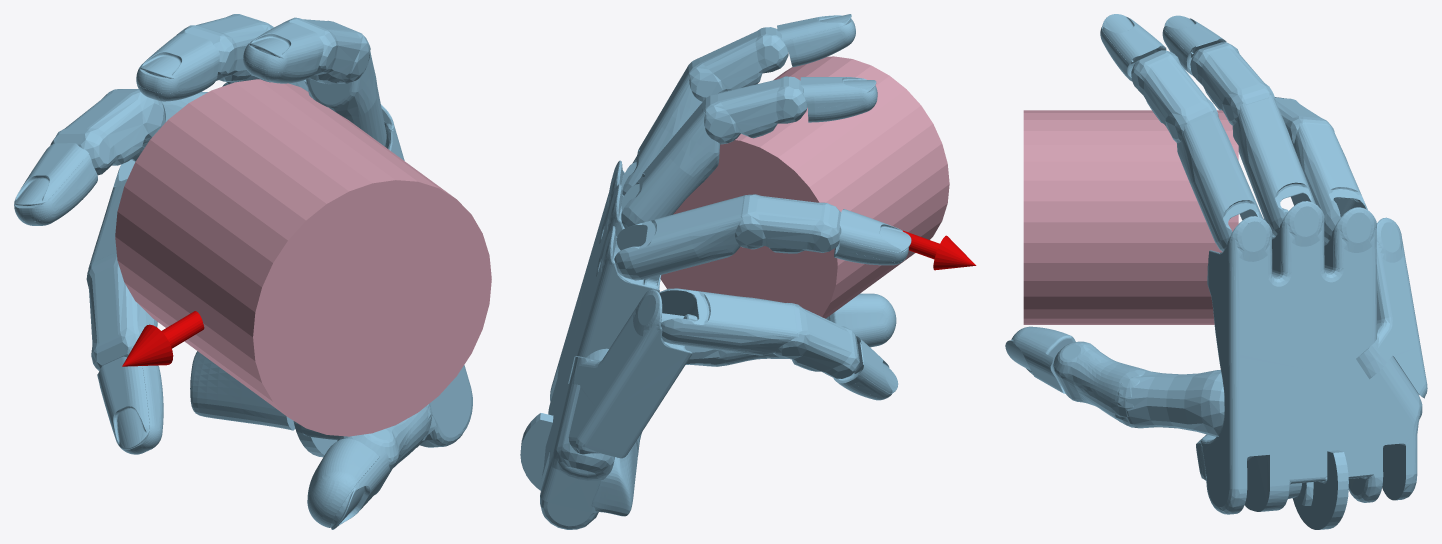
3 renders of one model, left to right at view 1: azimuth 30°, elevation 25°; view 2: azimuth 150°, elevation 25°; view 3: azimuth 270°, elevation 25°, orthographic. The views are drawn at different scales.
Parts seen in each view (by area): view 1: cylinder_medium.stl, world; view 2: world, cylinder_medium.stl; view 3: world, cylinder_medium.stl.
Boxes of the visible parts, x1,y1,x2,y2 form: cylinder_medium.stl: (115,79,491,436); world: (14,14,472,529); world: (520,14,976,529); cylinder_medium.stl: (660,56,949,318); world: (1005,14,1427,529); cylinder_medium.stl: (1023,110,1238,324).
Bounding box in the file's own units: 0.1499 × 0.1774 × 0.1571.
